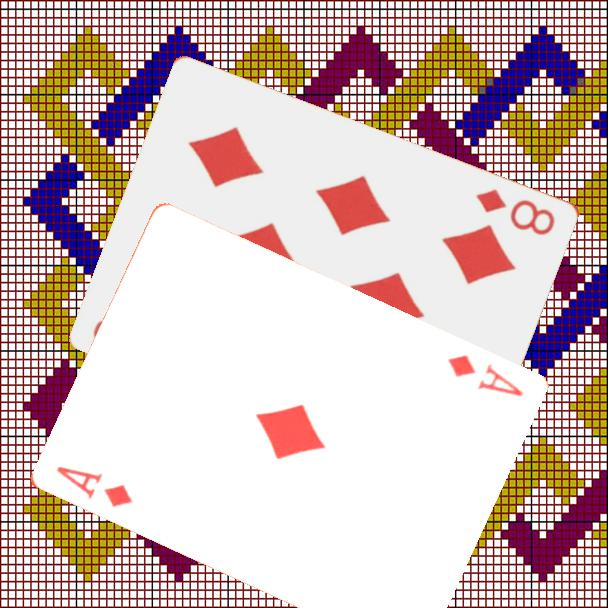d01: (444, 351, 527, 400), (52, 463, 135, 511)
d08: (472, 184, 559, 238)
